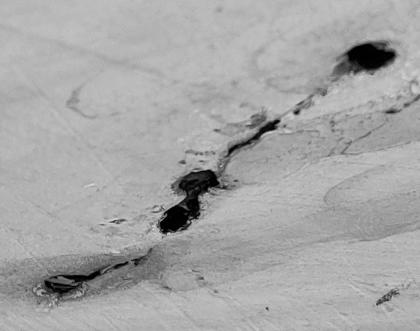crack: (1, 0, 420, 331)
